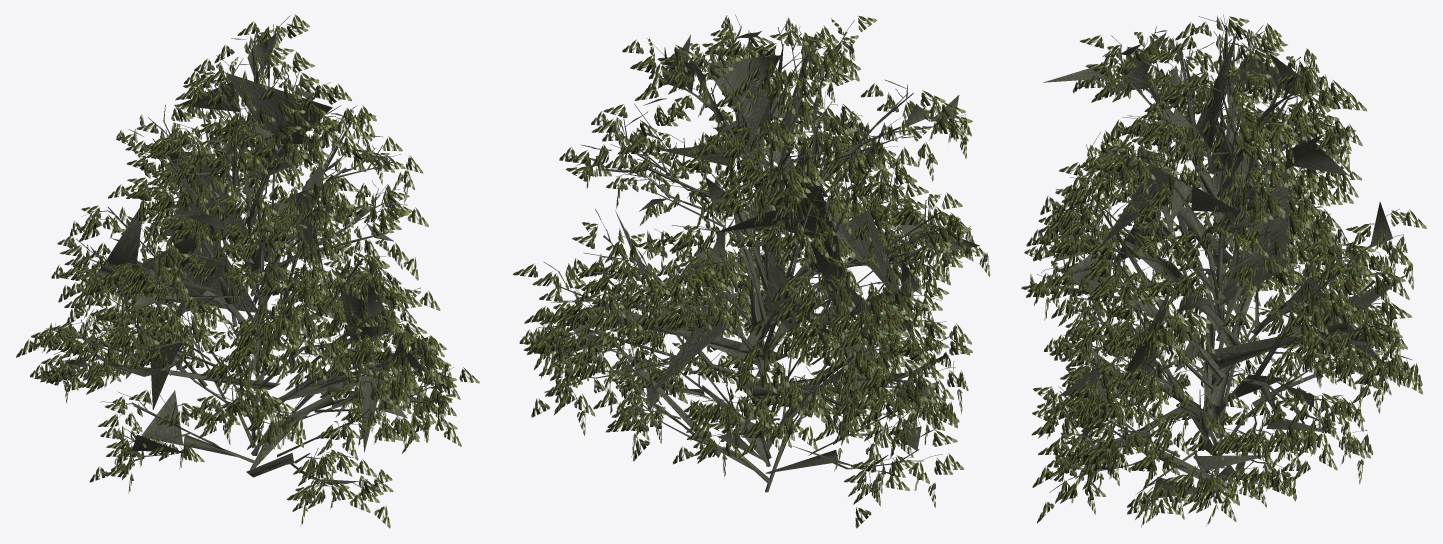
Rendered from tree_012.glb.
3 views of the same model, side by side, from view 1: azimuth 30°, elevation 25°; view 2: azimuth 150°, elevation 25°; view 3: azimuth 270°, elevation 25° (orthographic). The views are drawn at different scales.
Visible parts, largest first — view 1: Tree_012; view 2: Tree_012; view 3: Tree_012.
Boxes of the visible parts, bbox=[...] form: Tree_012: bbox=[16, 14, 479, 528]; Tree_012: bbox=[513, 14, 990, 528]; Tree_012: bbox=[1021, 14, 1426, 527].
Size of the model in its own units: 6.57 by 6.91 by 5.42.
Materials: 2 (2 with a texture image).
